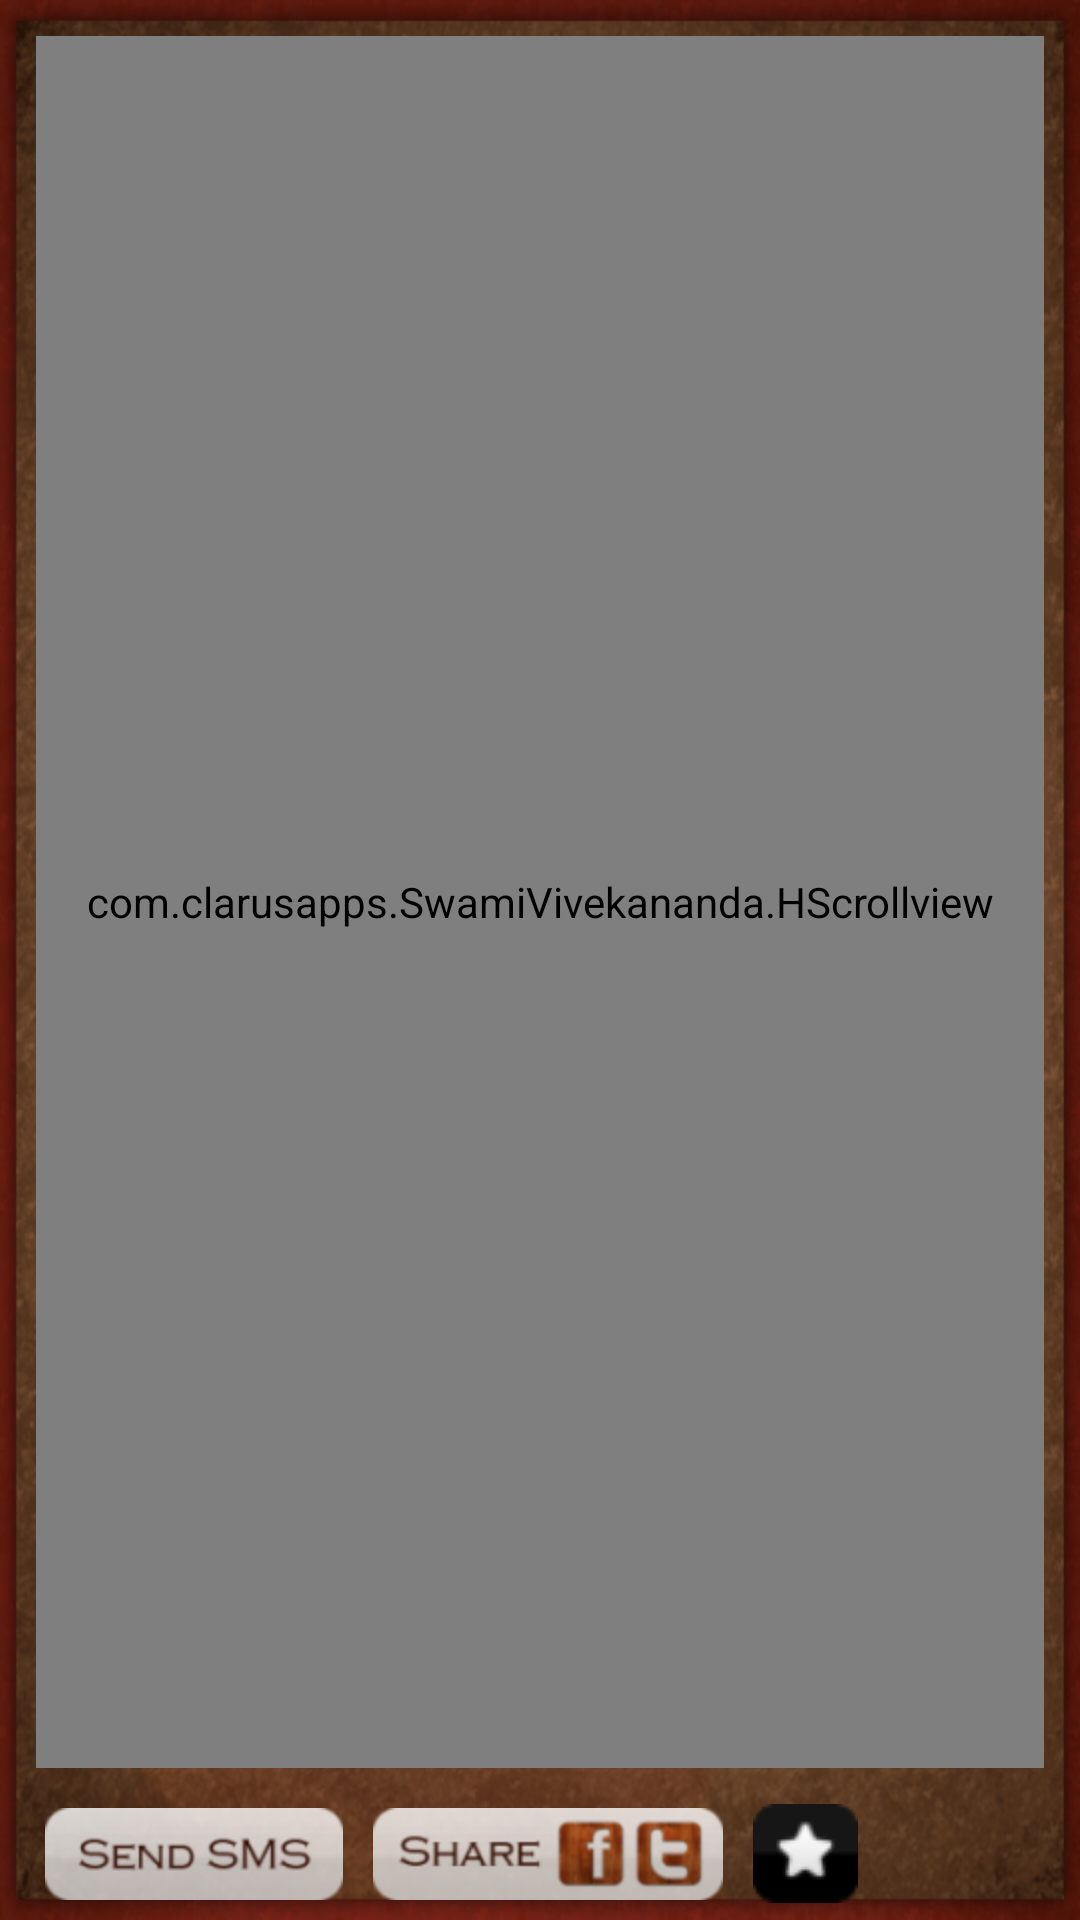

Point at icon controls on the screen. Image size 1080*1920, points as [x,y].
make it fav: [805,1853]
